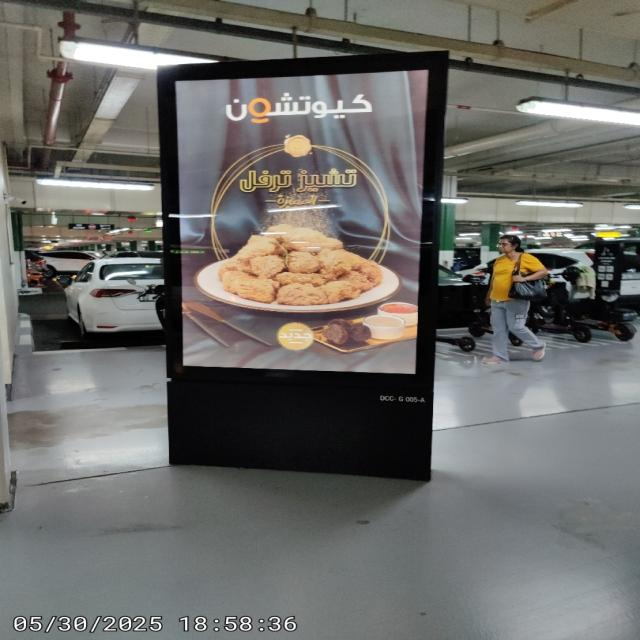mupi: (160, 52, 451, 479)
